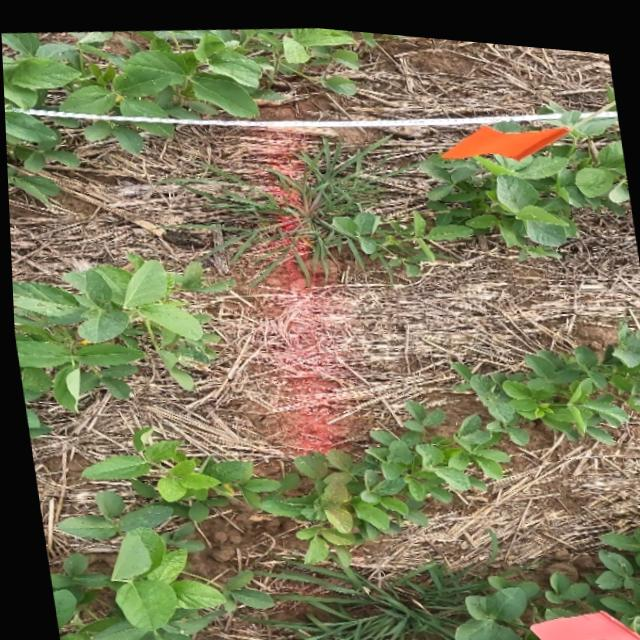grassy_weed: (170, 134, 433, 279), (256, 555, 474, 640)
soy_plant: (44, 394, 503, 640), (1, 21, 394, 201), (10, 253, 226, 408), (414, 125, 627, 245), (450, 515, 640, 640), (453, 312, 640, 433), (82, 118, 171, 151), (60, 83, 95, 109), (118, 94, 165, 113), (572, 105, 613, 123), (22, 406, 42, 436), (559, 100, 579, 114)
